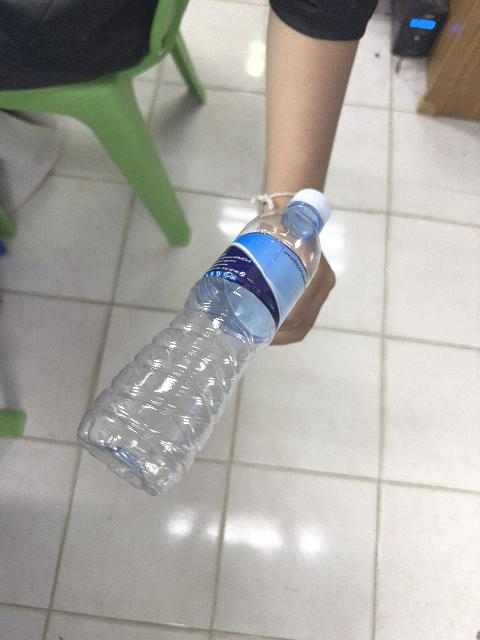bottle: (77, 190, 329, 495)
